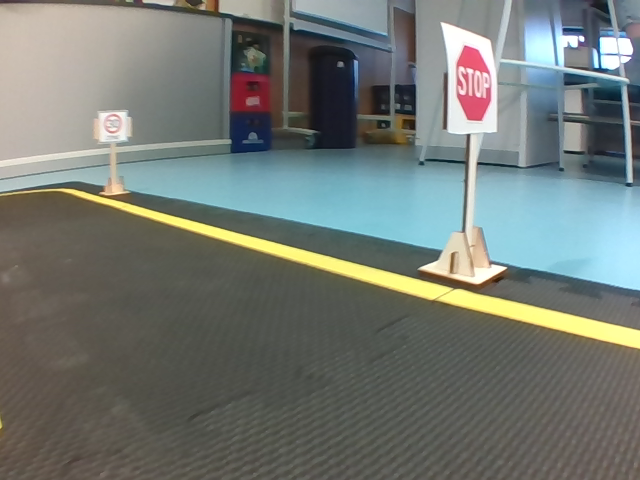30: (95, 110, 130, 143)
stop: (445, 27, 497, 133)
